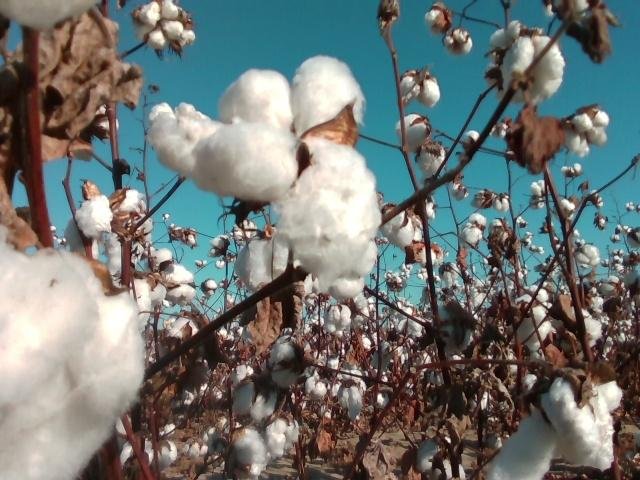cotton_ready: (197, 57, 379, 295), (0, 250, 146, 480), (489, 376, 622, 480), (208, 377, 289, 477), (489, 19, 567, 105), (150, 100, 223, 187), (68, 188, 140, 273), (235, 230, 314, 297), (131, 1, 195, 52), (302, 376, 368, 420), (144, 249, 195, 305), (0, 0, 99, 27), (512, 290, 550, 351), (412, 438, 467, 480), (269, 331, 314, 380), (379, 205, 424, 249), (570, 107, 609, 157), (399, 73, 440, 106), (395, 116, 429, 148), (416, 146, 446, 176)
